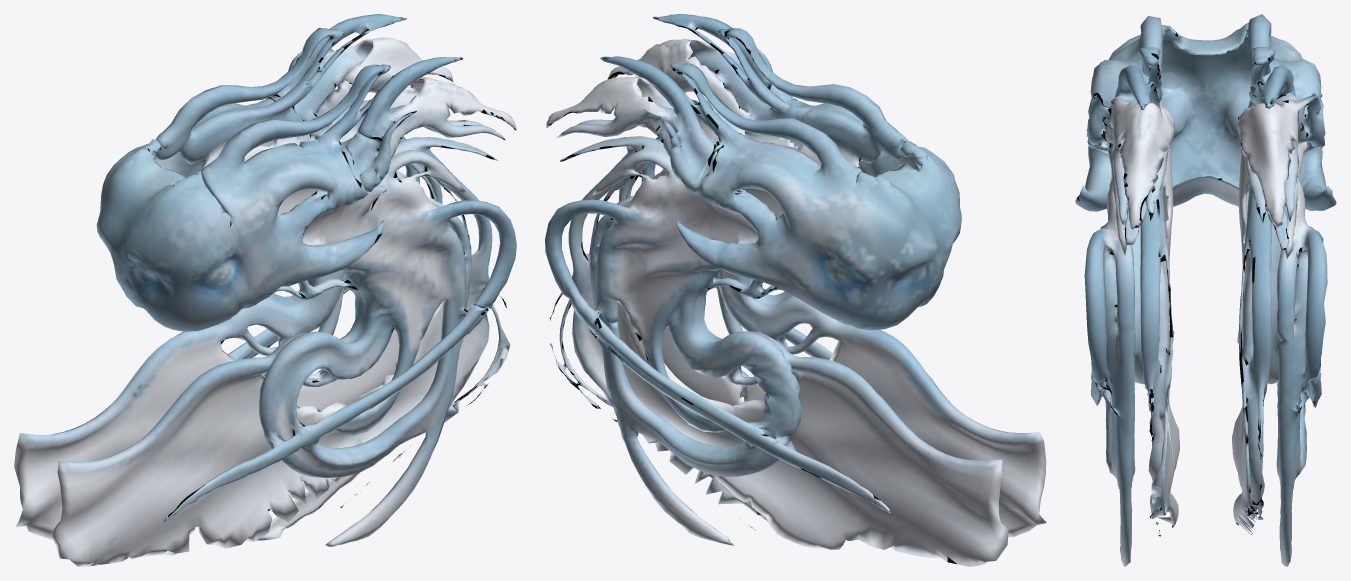
Rendered from ghost.fbx.
The picture shows the model from 3 angles, left to right: view 1: azimuth 30°, elevation 25°; view 2: azimuth 150°, elevation 25°; view 3: azimuth 270°, elevation 25°; orthographic projection. The views are drawn at different scales.
Visible parts, largest first — view 1: RETOPO; view 2: RETOPO; view 3: RETOPO.
Part boxes in pixels (x1=…): RETOPO: x1=14, y1=14, x2=516, y2=566; RETOPO: x1=545, y1=14, x2=1046, y2=566; RETOPO: x1=1075, y1=14, x2=1336, y2=566.
Bounding box in the file's own units: 92.06 × 89.37 × 40.06.
1 material, 1 textured.
